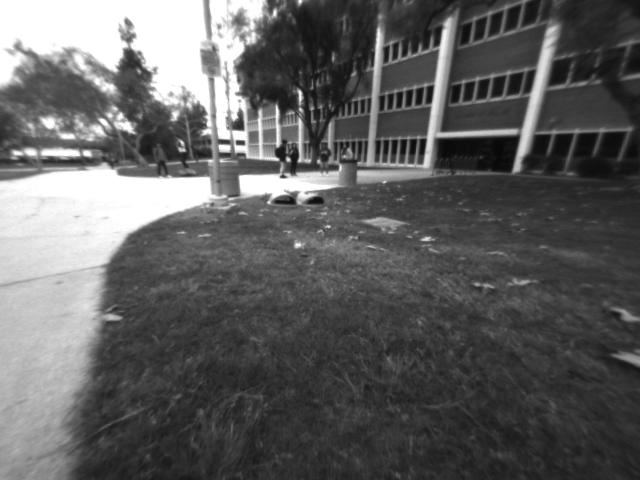trashcan: (211, 157, 245, 201), (336, 156, 359, 191)
